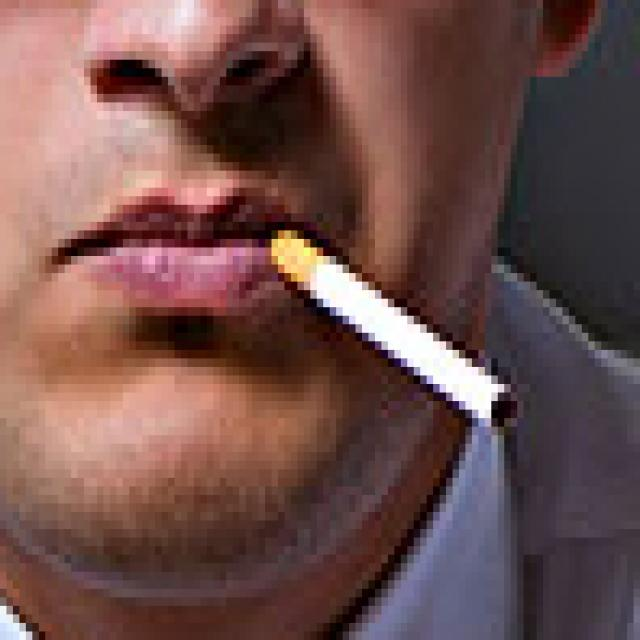cigarette: (269, 234, 523, 444)
